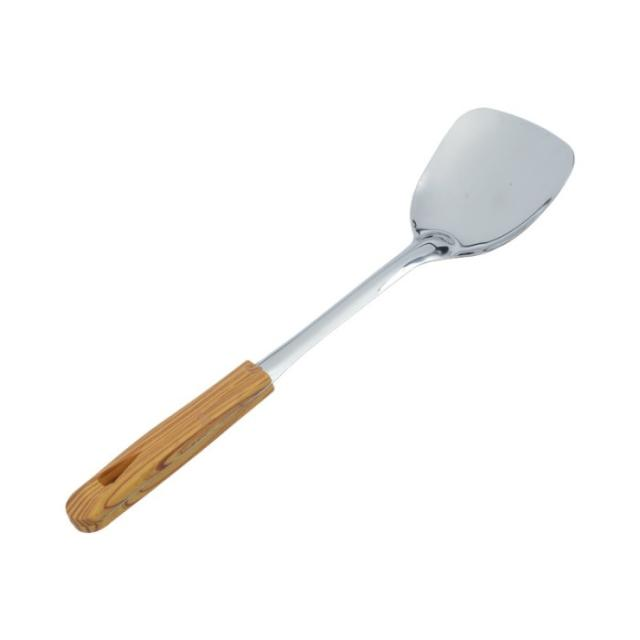Spatula: (37, 101, 587, 541)
